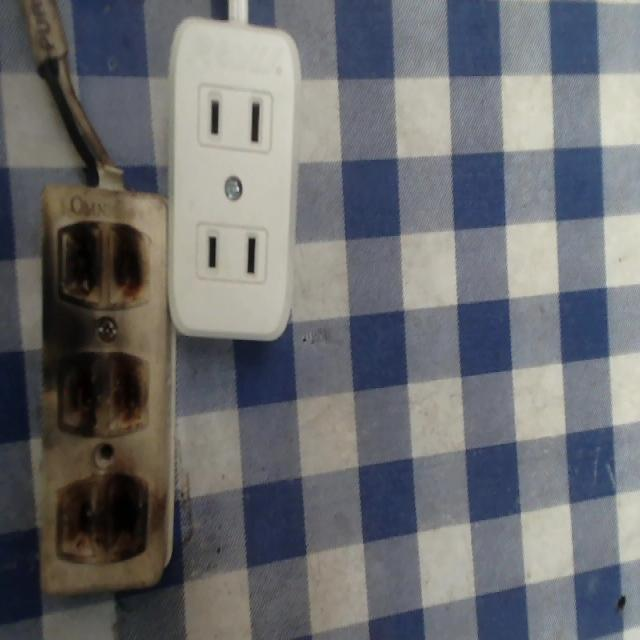-: (53, 467, 149, 564), (52, 215, 151, 309), (56, 351, 152, 433)
